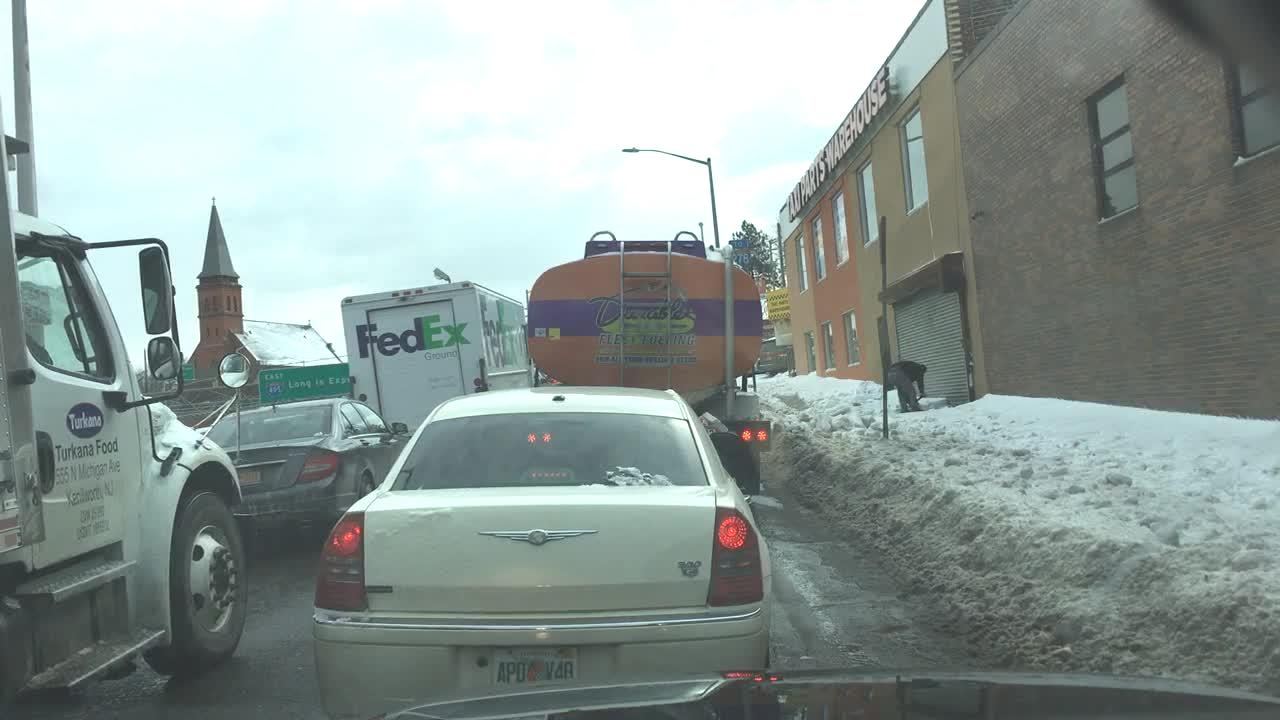Chrysler: (471, 525, 609, 550)
